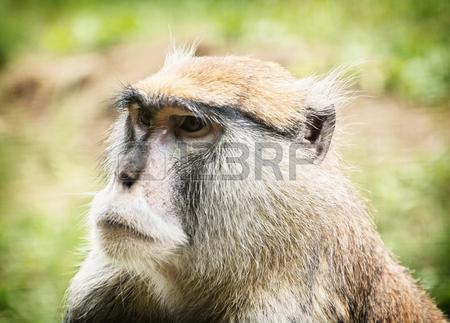monkey: (65, 40, 446, 323)
